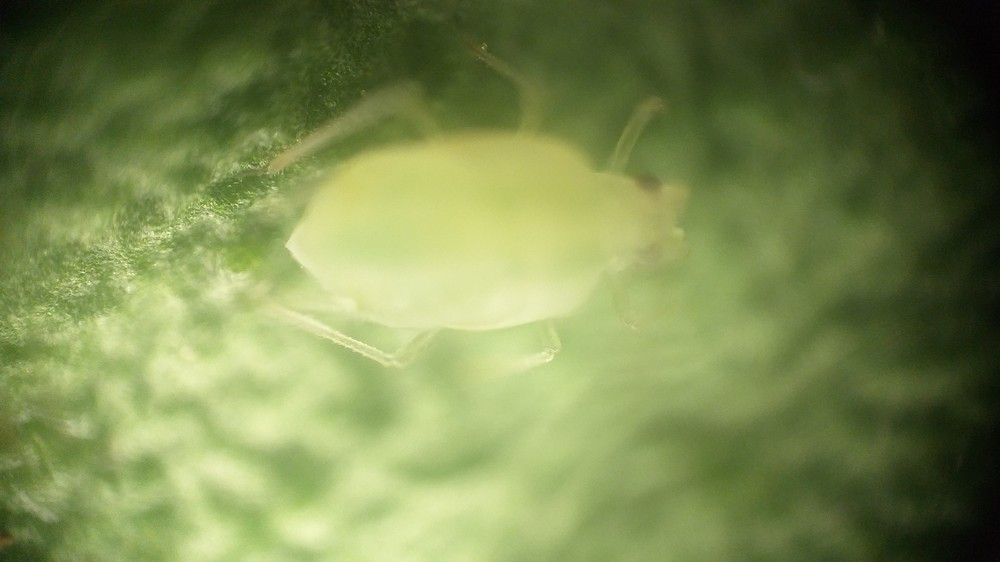Pulgon: (252, 42, 746, 413)
